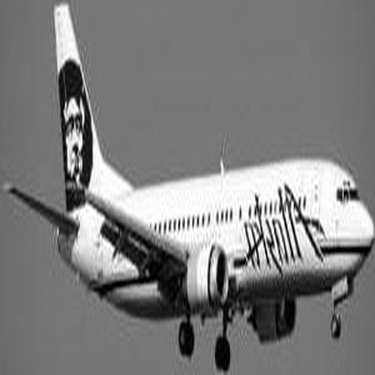airplane: (13, 4, 362, 359)
